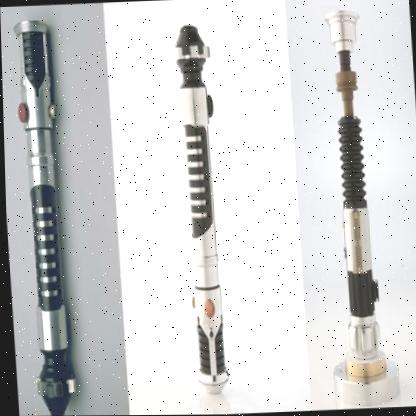lightsaber: (309, 6, 402, 408), (10, 18, 82, 416), (172, 23, 233, 415)
